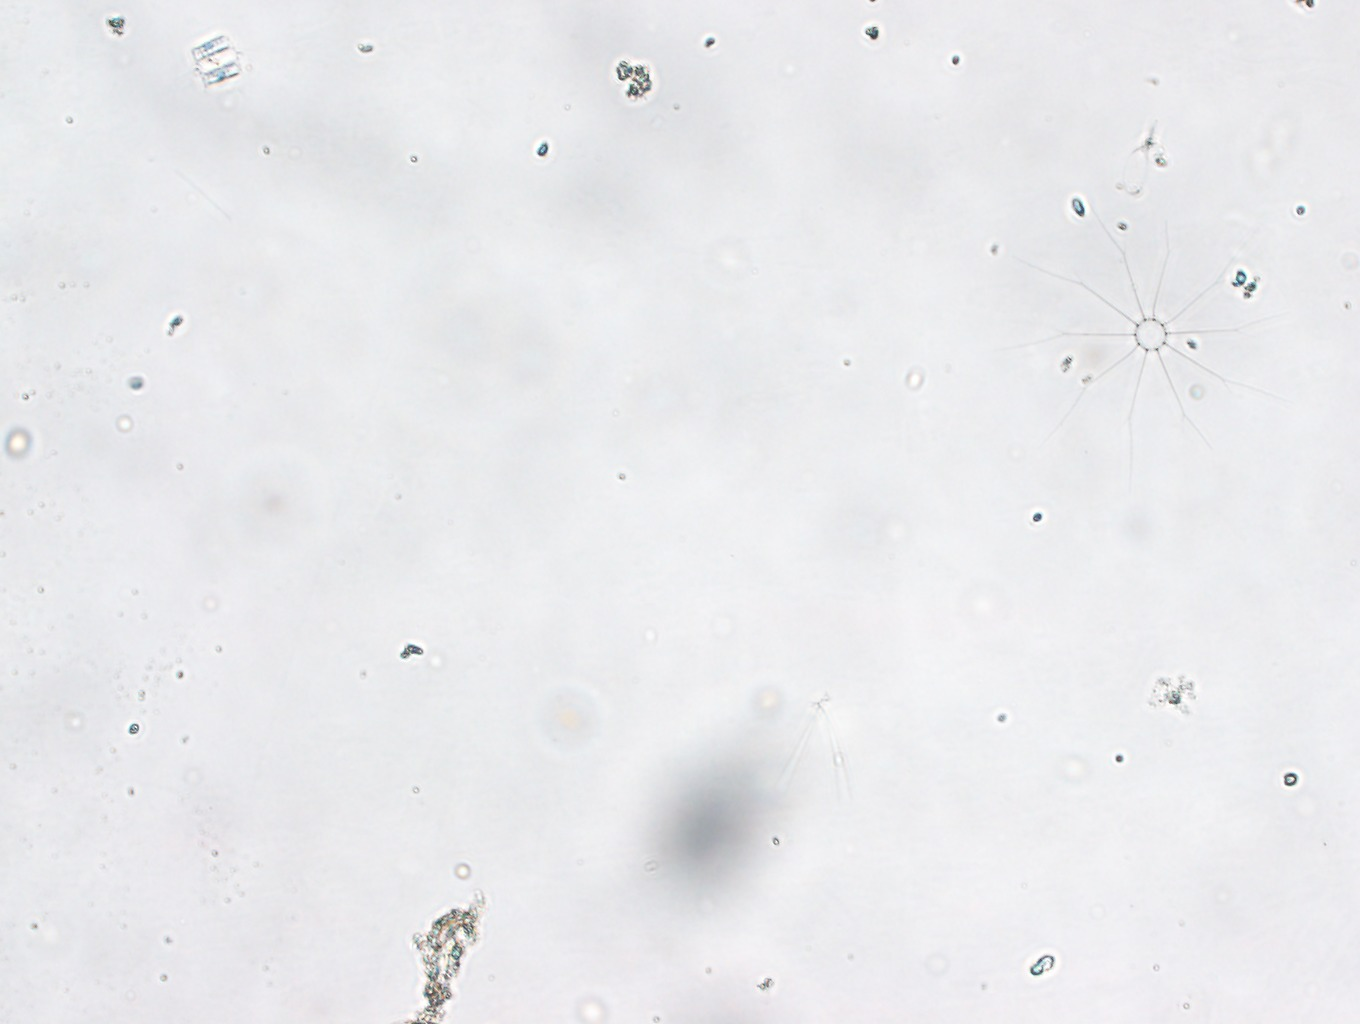bacteriastrum: (1012, 213, 1293, 487)
